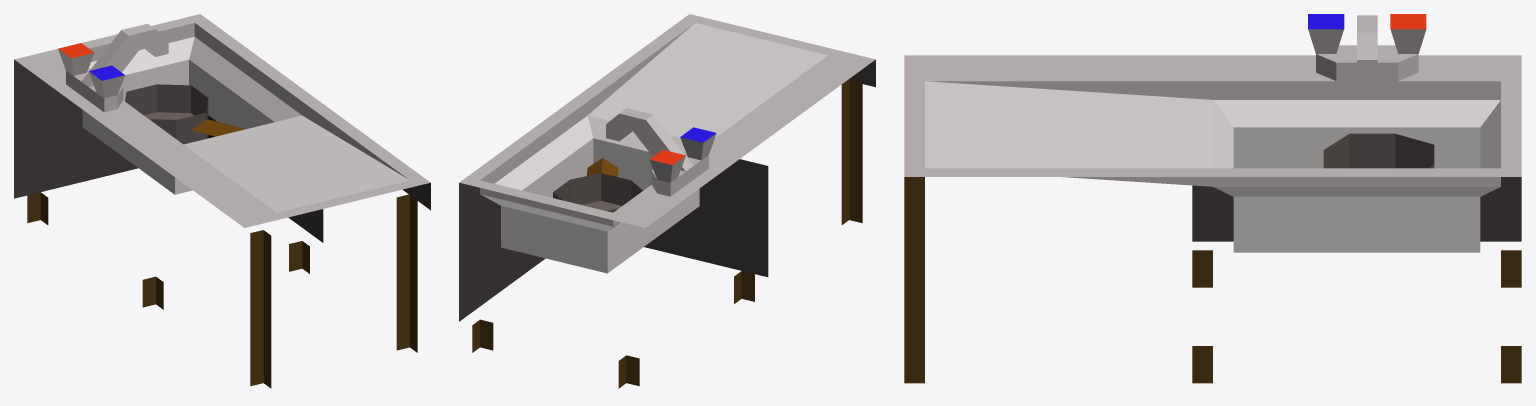
The model's file is obj_sink_2_0.obj.
The picture shows the model from 3 angles, left to right: view 1: azimuth 30°, elevation 25°; view 2: azimuth 150°, elevation 25°; view 3: azimuth 270°, elevation 25°; orthographic projection. The views are drawn at different scales.
Bounding box in the file's own units: 0.875 × 1 × 1.88.
